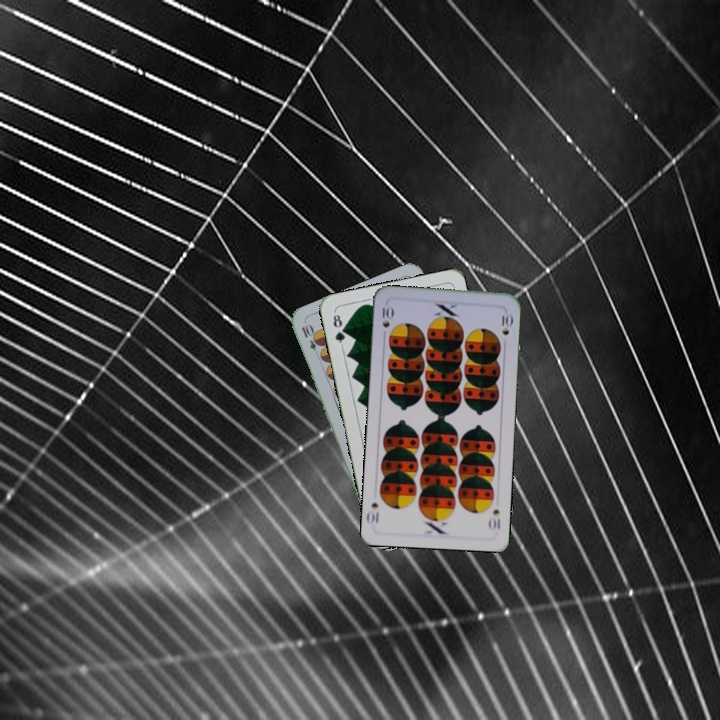E10: (297, 320, 323, 360)
G8: (329, 308, 348, 348)
S10: (378, 301, 395, 330), (485, 505, 503, 532)
